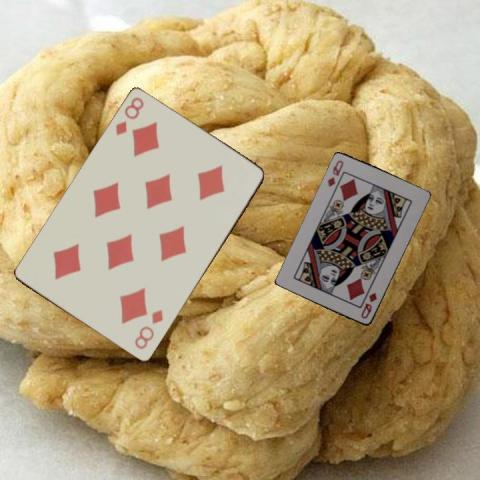8d: (131, 307, 165, 351), (112, 94, 146, 137)
Qd: (358, 290, 379, 321), (324, 157, 344, 189)
